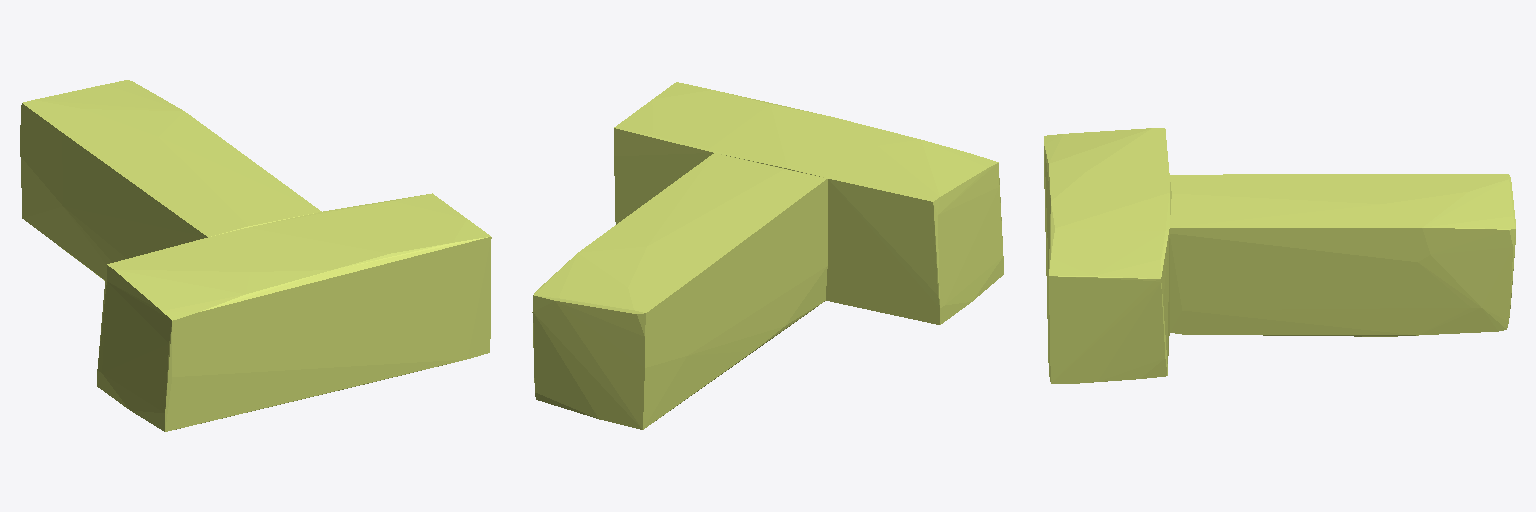
URDF robot description (blob643):
<robot name="blob643">
  <link name="random_obj_643">
    <contact>
      <lateral_friction value="1.0"/>
      <rolling_friction value="0.0"/>
      <inertia_scaling value="3.0"/>
      <contact_cfm value="0.0"/>
      <contact_erp value="1.0"/>
    </contact>
    <inertial>
      <origin rpy="0 0 0" xyz="0 0 0"/>
      <mass value="0.1"/>
      <inertia ixx="1" ixy="0" ixz="0" iyy="1" iyz="0" izz="0"/>
    </inertial>
    <visual>
      <origin rpy="0 0 0" xyz="0 0 0"/>
      <geometry>
        <mesh filename="643.obj" scale="0.015 0.015 0.015"/>
      </geometry>
      <material name="blockmat">
        <color rgba="0.87 0.92 0.51 1"/>
      </material>
    </visual>
    <collision>
      <origin rpy="0 0 0" xyz="0 0 0"/>
      <geometry>
        <mesh filename="643.obj" scale="0.015 0.015 0.015"/>
      </geometry>
    </collision>
  </link>
</robot>

--- Facts derived from the render (not from the file) ---
3 views of the same robot in one strip: view 1: azimuth 30°, elevation 25°; view 2: azimuth 150°, elevation 25°; view 3: azimuth 270°, elevation 25° (orthographic).
Model blob643 with 1 links and 0 joints (none), rooted at random_obj_643, posed all joints at 0.
Links seen in each view (by area): view 1: random_obj_643; view 2: random_obj_643; view 3: random_obj_643.
Boxes of the visible links, <box> form: random_obj_643: <box>20,80,491,431</box>; random_obj_643: <box>532,82,1003,429</box>; random_obj_643: <box>1044,128,1515,383</box>.
Bounding box of the posed robot: 0.0918 × 0.1227 × 0.0326 m (x, y, z).
1 mesh visuals loaded from 1 distinct referenced files (1 OBJ).